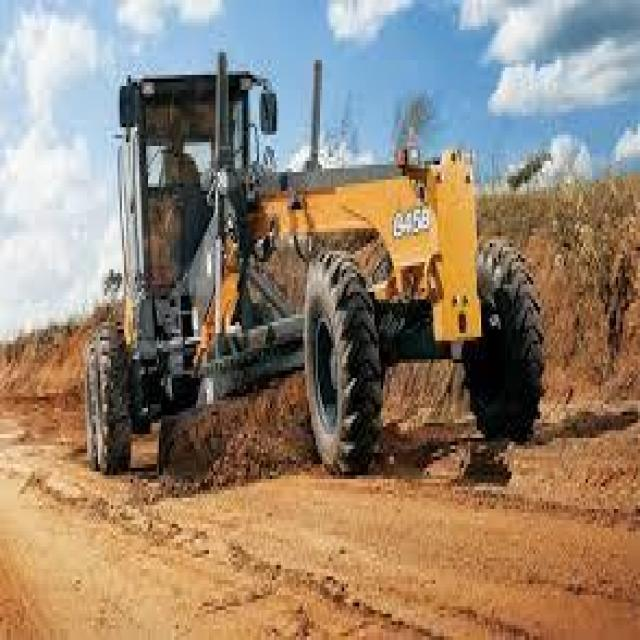Grader: (41, 34, 548, 516)
